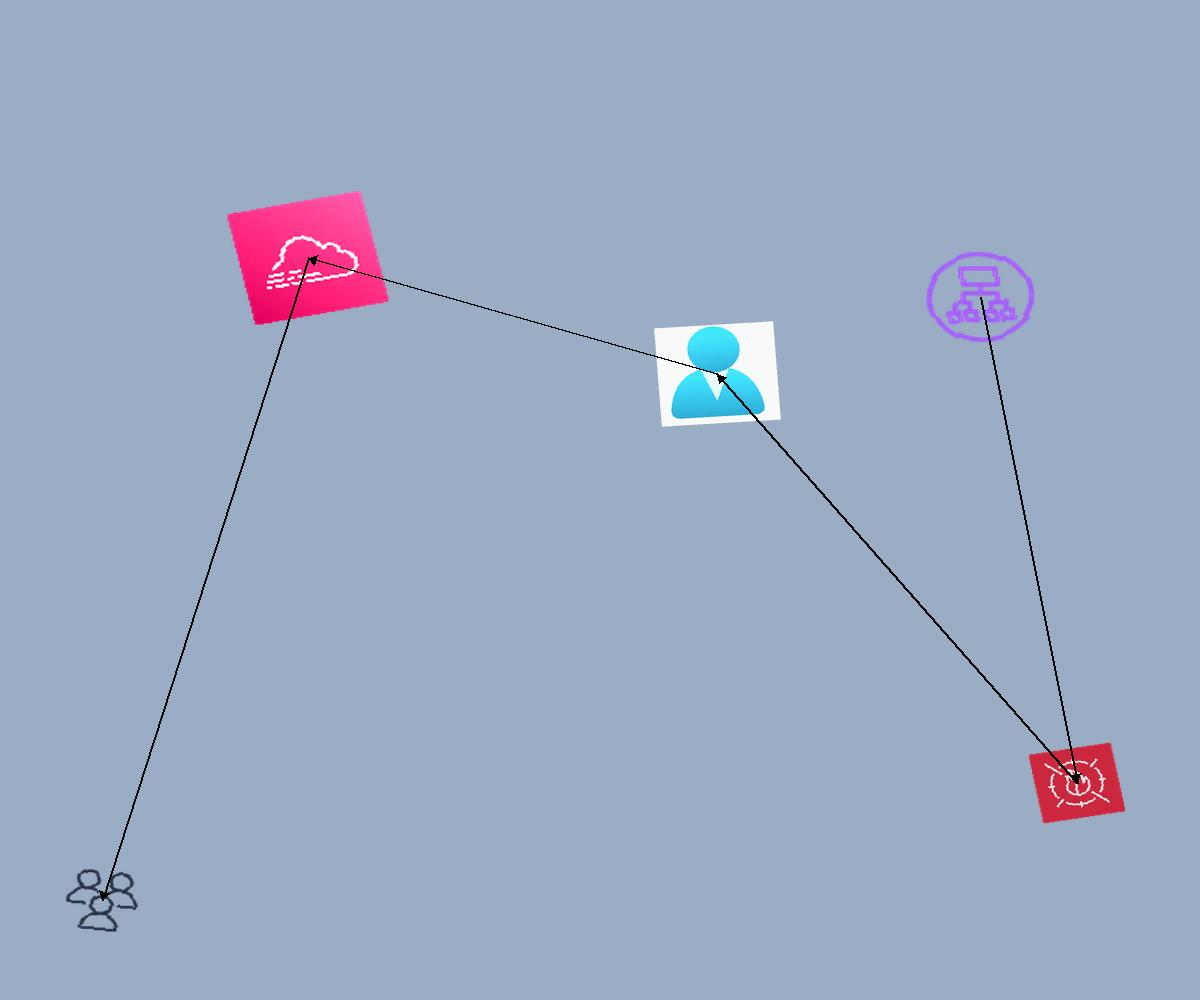AWS-CloudTrail: (226, 190, 390, 326)
AWS-Res_Elastic-Load-Balancing_Application-Load-Balancer: (917, 244, 1044, 350)
AWS-Res_Users: (58, 864, 146, 937)
AWS-WAF: (1028, 742, 1126, 824)
Azure_users: (654, 321, 781, 427)
